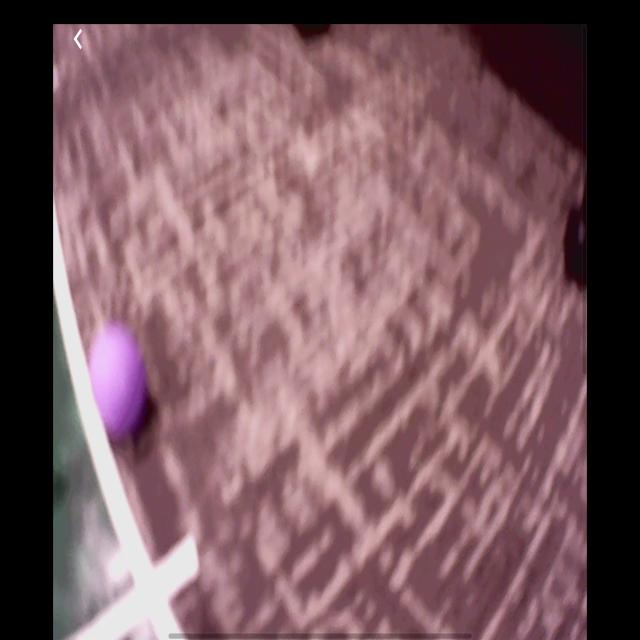ball: (87, 320, 153, 447)
